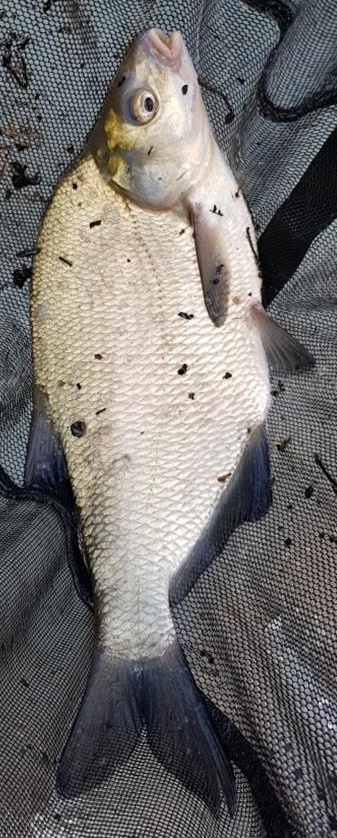Abramis brama: (20, 20, 317, 818)
